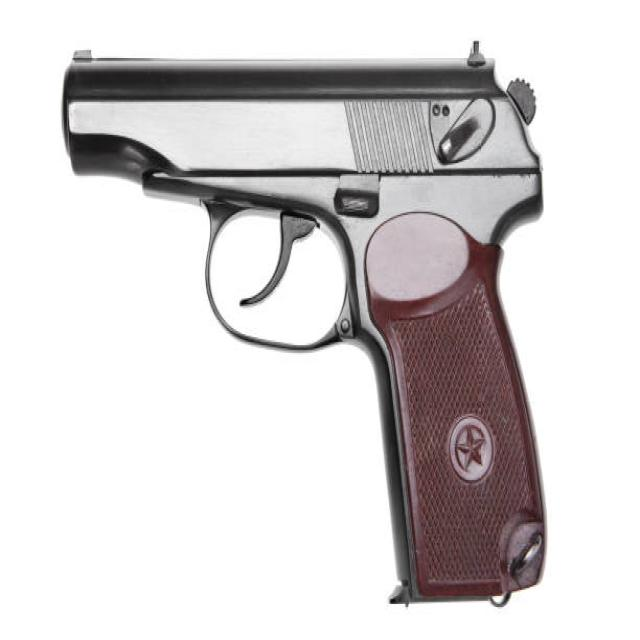pistol: (61, 31, 558, 617)
